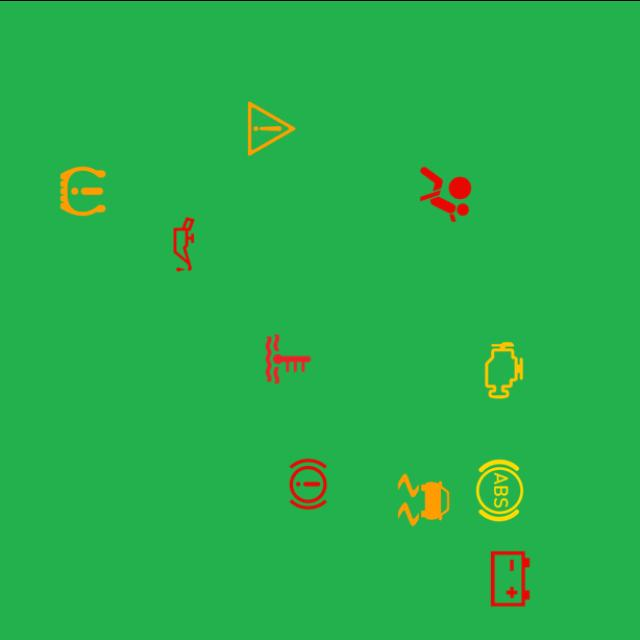Anti Lock Braking System: (466, 456, 534, 524)
Braking System Issue: (274, 449, 342, 517)
Charging System Issue: (476, 544, 544, 612)
Check Engine: (470, 336, 538, 404)
Electronic Stability Problem -ESP-: (390, 465, 458, 533)
Engine Overheating Warning Light: (254, 324, 322, 392)
Low Engine Oil Warning Light: (150, 210, 218, 278)
Low Tire Pressure Warning Light: (49, 156, 117, 224)
Master warning light: (238, 94, 306, 162)
SRS-Airbag: (412, 160, 479, 228)
